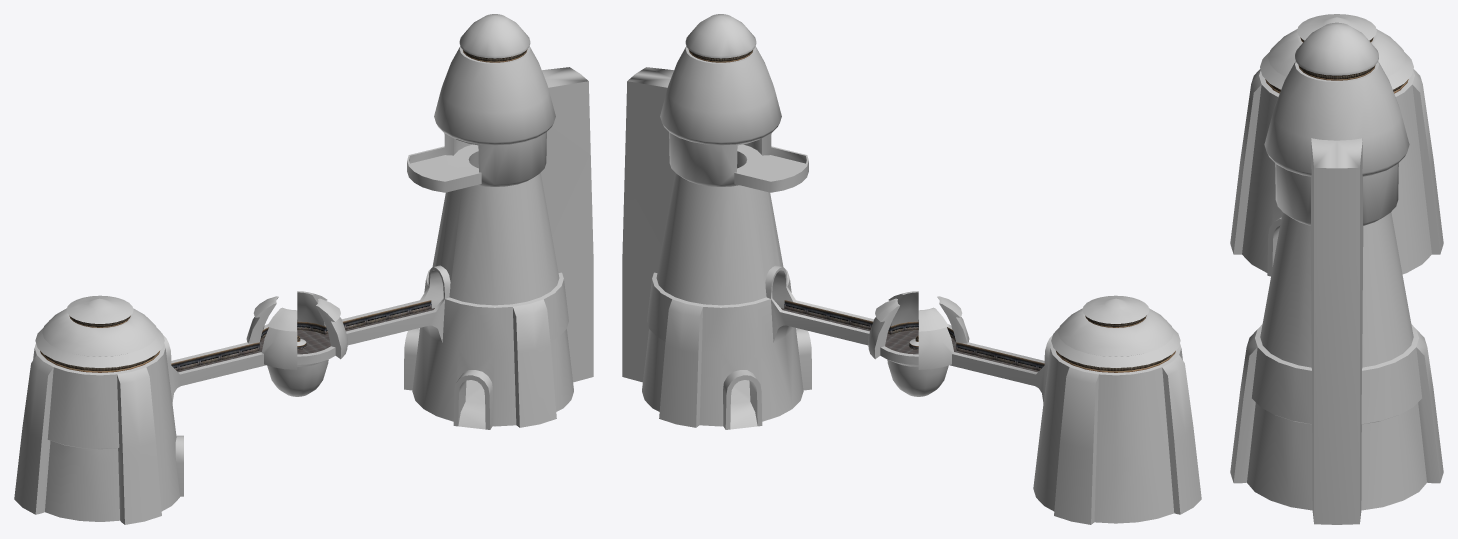
Rendered from Station01.DAE.
The picture shows the model from 3 angles, left to right: view 1: azimuth 30°, elevation 25°; view 2: azimuth 150°, elevation 25°; view 3: azimuth 270°, elevation 25°; orthographic projection. The views are drawn at different scales.
Parts seen in each view (by area): view 1: stationCOL; view 2: stationCOL; view 3: stationCOL.
Part boxes in pixels (box(x1,y1,x2,y2)): stationCOL: box(14, 14, 593, 524); stationCOL: box(622, 14, 1201, 524); stationCOL: box(1230, 14, 1443, 524).
Bounding box in the file's own units: 91.14 × 25.14 × 58.17.
